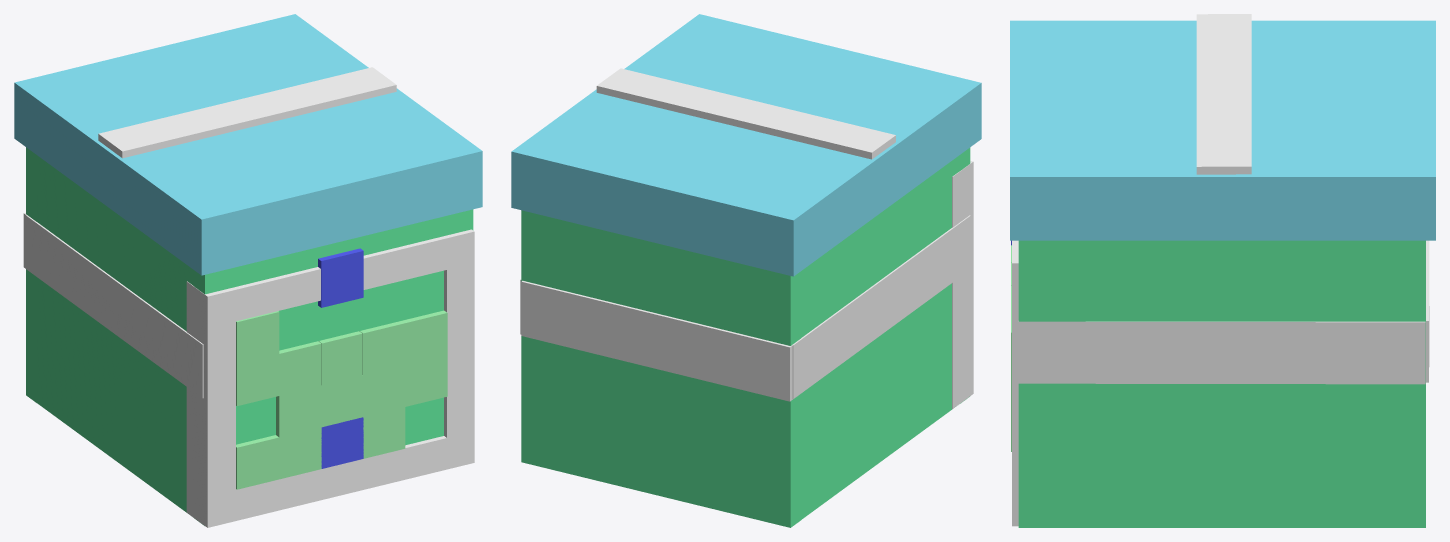
The model's file is case3 (3).fbx.
3 views of the same model, side by side, from view 1: azimuth 30°, elevation 25°; view 2: azimuth 150°, elevation 25°; view 3: azimuth 270°, elevation 25° (orthographic). The views are drawn at different scales.
Parts seen in each view (by area): view 1: Cube.005, Cube.026, Cube.007, Cube.002, Cube.003, Cube.012, Cube.021, Cube.008, Cube.022, Cube.019, Cube.014, Cube.013 (+8 smaller); view 2: Cube.026, Cube.005, Cube.006, Cube.002, Cube.003, Cube.007; view 3: Cube.026, Cube.005, Cube.001, Cube.003, Cube.007, Cube.006.
Boxes of the visible parts, box(x1,y1,x2,y2) form: Cube.005: box(14, 14, 482, 275); Cube.026: box(26, 147, 473, 525); Cube.007: box(186, 229, 474, 527); Cube.002: box(26, 215, 203, 398); Cube.003: box(98, 67, 396, 158); Cube.012: box(318, 248, 363, 307); Cube.021: box(359, 321, 405, 375); Cube.008: box(236, 435, 279, 489); Cube.022: box(402, 310, 447, 364); Cube.019: box(279, 341, 321, 395); Cube.014: box(276, 385, 321, 437); Cube.013: box(236, 311, 279, 363); Cube.026: box(521, 147, 970, 527); Cube.005: box(511, 14, 981, 276); Cube.006: box(521, 280, 792, 401); Cube.002: box(792, 215, 970, 399); Cube.003: box(596, 68, 895, 159); Cube.007: box(952, 161, 973, 408); Cube.026: box(1018, 240, 1425, 527); Cube.005: box(1010, 20, 1435, 240); Cube.001: box(1018, 321, 1425, 384); Cube.003: box(1196, 14, 1251, 174); Cube.007: box(1012, 240, 1018, 526); Cube.006: box(1426, 240, 1429, 382).
Size of the model in its own units: 145 by 157 by 167.
